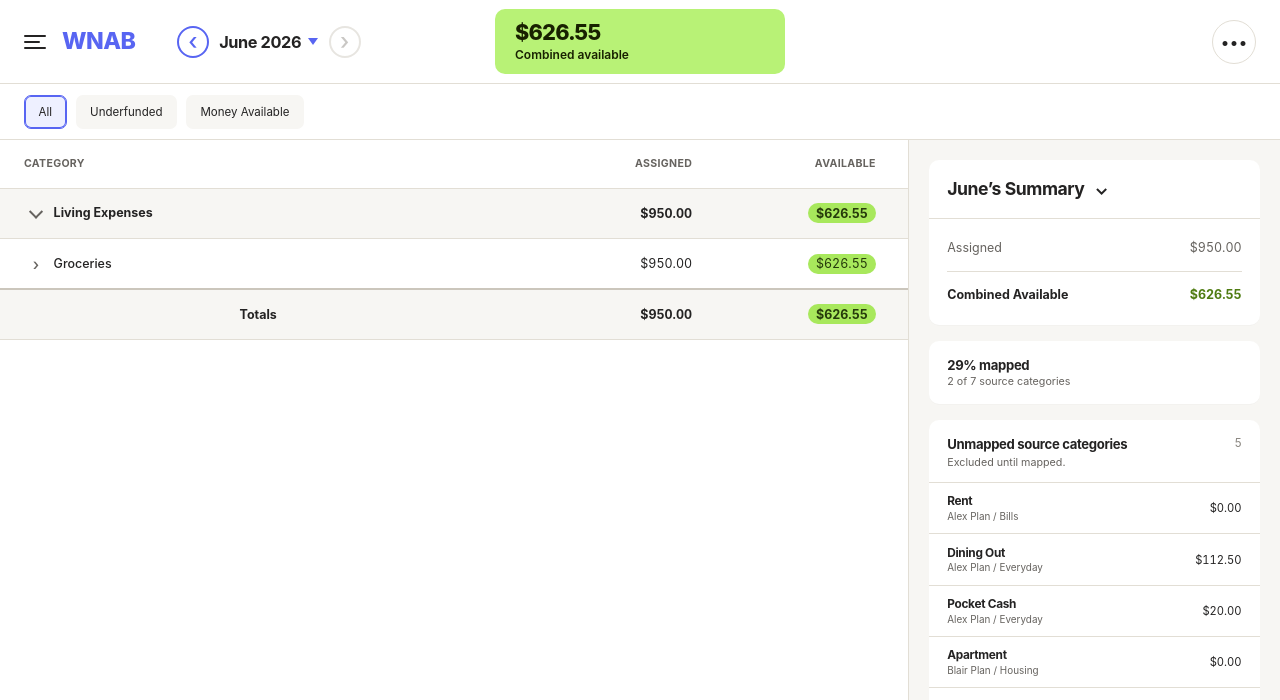
WNAB app › keeps progress bars hidden by default and persists the local display preference
expect the button with aria-label "Choose month, June 2026" is shown: met, box left=217, top=26, right=321, bottom=57
expect the heading "Unmapped source categories" is shown: met, box left=947, top=436, right=1127, bottom=452
Click the button named "More options".
click(1234, 42)  # box left=1212, top=20, right=1256, bottom=64
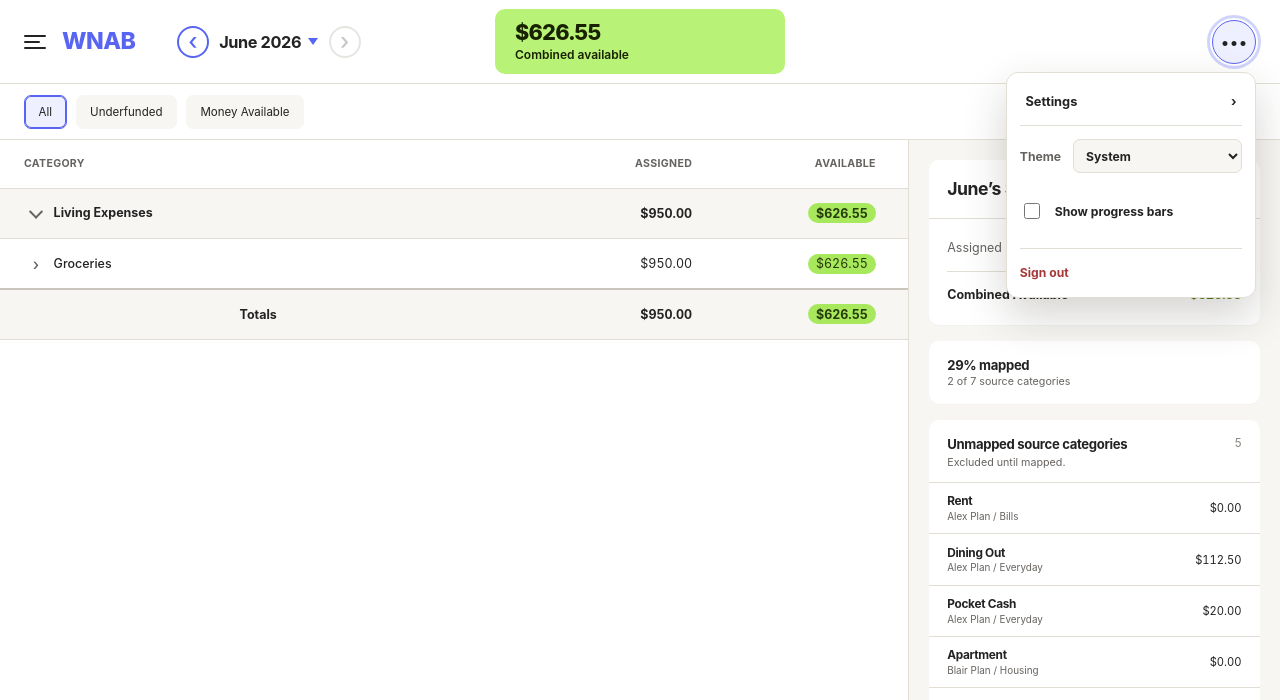
expect the checkbox labelled "Show progress bars" is not checked: met
Click the checkbox labelled "Show progress bars".
click(1032, 211)  # box left=1024, top=189, right=1040, bottom=233
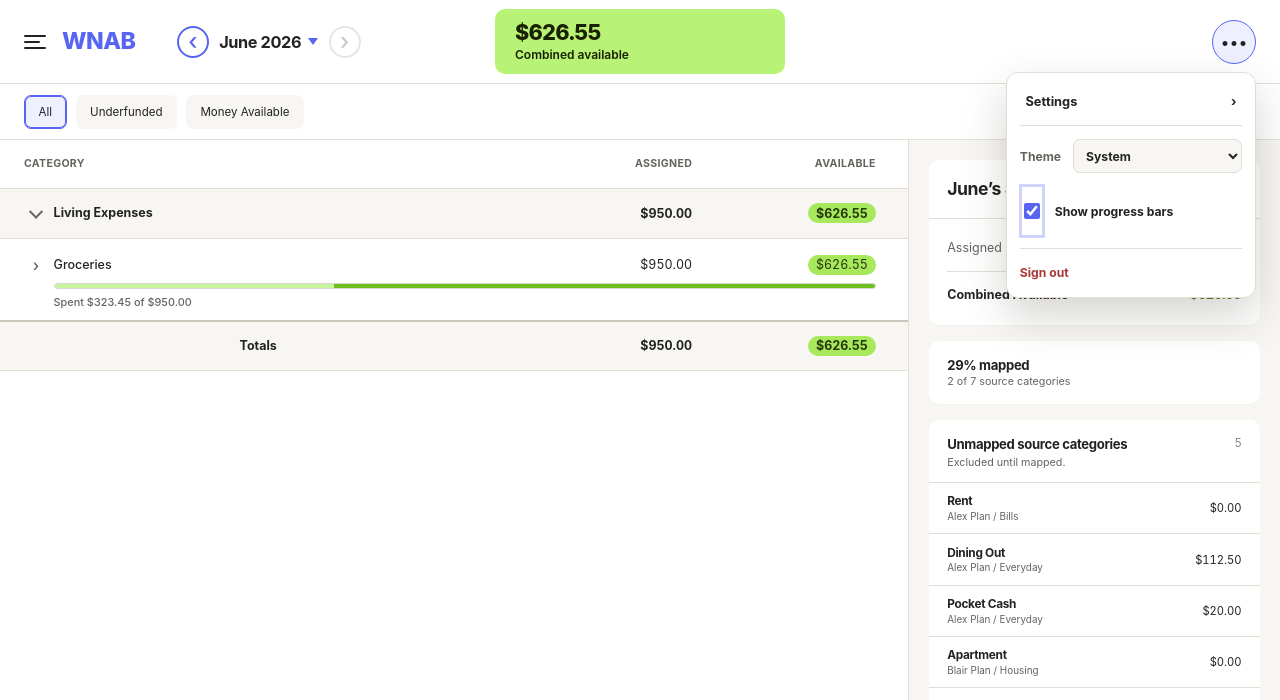
expect the progress indicator named "Groceries:" is shown: met, box left=54, top=283, right=876, bottom=289
